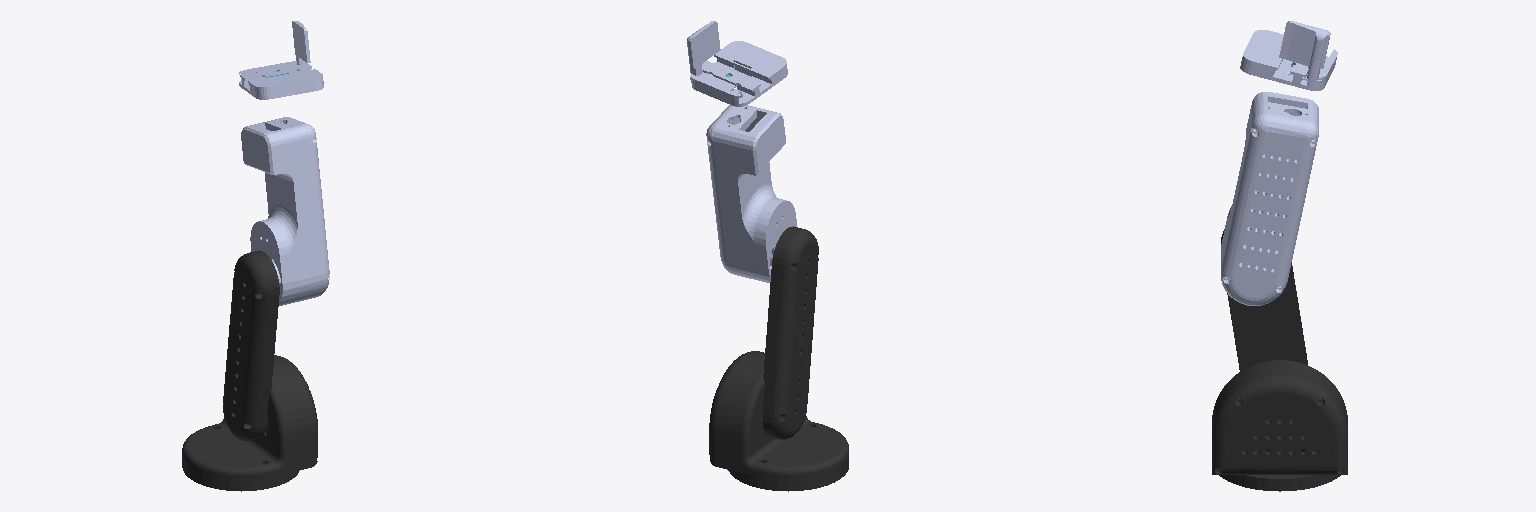
The robot description file, URDF, robot "Assembly.SLDASM":
<?xml version="1.0" encoding="utf-8"?>
<!-- This URDF was automatically created by SolidWorks to URDF Exporter! Originally created by Stephen Brawner (brawner@gmail.com) 
     Commit Version: 1.6.0-4-g7f85cfe  Build Version: 1.6.7995.38578
     For more information, please see http://wiki.ros.org/sw_urdf_exporter -->
<robot
  name="Assembly.SLDASM">
  <link
    name="base_link">
    <inertial>
      <origin
        xyz="0.607745951604421 0.85062096668515 1.30738944715506"
        rpy="0 0 0" />
      <mass
        value="0.251730876882344" />
      <inertia
        ixx="0.000372520564389881"
        ixy="-7.54584473646597E-05"
        ixz="-7.08997297031381E-07"
        iyy="0.000370141779081207"
        iyz="-1.29601796792354E-06"
        izz="0.000322827099049175" />
    </inertial>
    <visual>
      <origin
        xyz="0 0 0"
        rpy="0 0 0" />
      <geometry>
        <mesh
          filename="package://Assembly.SLDASM/meshes/base_link.STL" />
      </geometry>
      <material
        name="">
        <color
          rgba="0.250980392156863 0.250980392156863 0.250980392156863 1" />
      </material>
    </visual>
    <collision>
      <origin
        xyz="0 0 0"
        rpy="0 0 0" />
      <geometry>
        <mesh
          filename="package://Assembly.SLDASM/meshes/base_link.STL" />
      </geometry>
    </collision>
  </link>
  <link
    name="link1">
    <inertial>
      <origin
        xyz="-0.0649999773309407 -0.00990534170404467 -1.40136939608126E-07"
        rpy="0 0 0" />
      <mass
        value="0.128248499161461" />
      <inertia
        ixx="3.13660272017611E-05"
        ixy="-1.60750369333264E-11"
        ixz="3.62040686694242E-11"
        iyy="0.000332683526672571"
        iyz="2.30963009826588E-10"
        izz="0.00031026567260883" />
    </inertial>
    <visual>
      <origin
        xyz="0 0 0"
        rpy="0 0 0" />
      <geometry>
        <mesh
          filename="package://Assembly.SLDASM/meshes/link1.STL" />
      </geometry>
      <material
        name="">
        <color
          rgba="0.250980392156863 0.250980392156863 0.250980392156863 1" />
      </material>
    </visual>
    <collision>
      <origin
        xyz="0 0 0"
        rpy="0 0 0" />
      <geometry>
        <mesh
          filename="package://Assembly.SLDASM/meshes/link1.STL" />
      </geometry>
    </collision>
  </link>
  <joint
    name="joint1"
    type="continuous">
    <origin
      xyz="0.5858 -1.3071 0.86842"
      rpy="0 1.4263 1.5708" />
    <parent
      link="base_link" />
    <child
      link="link1" />
    <axis
      xyz="0 1 0" />
  </joint>
  <link
    name="link2">
    <inertial>
      <origin
        xyz="0.0273712938846296 -1.2826417259193E-05 -0.0546040513755284"
        rpy="0 0 0" />
      <mass
        value="0.175727921697482" />
      <inertia
        ixx="0.000423270295329232"
        ixy="-7.76365049035033E-08"
        ixz="-7.39253375607846E-08"
        iyy="0.000423842130806631"
        iyz="2.09944897994301E-07"
        izz="9.05331817948336E-05" />
    </inertial>
    <visual>
      <origin
        xyz="0 0 0"
        rpy="0 0 0" />
      <geometry>
        <mesh
          filename="package://Assembly.SLDASM/meshes/link2.STL" />
      </geometry>
      <material
        name="">
        <color
          rgba="0.792156862745098 0.819607843137255 0.933333333333333 1" />
      </material>
    </visual>
    <collision>
      <origin
        xyz="0 0 0"
        rpy="0 0 0" />
      <geometry>
        <mesh
          filename="package://Assembly.SLDASM/meshes/link2.STL" />
      </geometry>
    </collision>
  </link>
  <joint
    name="joint2"
    type="continuous">
    <origin
      xyz="-0.13 -0.023015 0"
      rpy="-1.9063 0 -1.5708" />
    <parent
      link="link1" />
    <child
      link="link2" />
    <axis
      xyz="1 0 0" />
  </joint>
  <link
    name="Wrist">
    <inertial>
      <origin
        xyz="-0.0410017157436405 -0.172991468354347 0.000961347210384877"
        rpy="0 0 0" />
      <mass
        value="0.0332525424349021" />
      <inertia
        ixx="1.08426026097616E-05"
        ixy="-5.82580124824093E-07"
        ixz="1.83029027989319E-07"
        iyy="1.78906507804546E-05"
        iyz="6.2291988943171E-07"
        izz="1.04314297639149E-05" />
    </inertial>
    <visual>
      <origin
        xyz="0 0 0"
        rpy="0 0 0" />
      <geometry>
        <mesh
          filename="package://Assembly.SLDASM/meshes/Wrist.STL" />
      </geometry>
      <material
        name="">
        <color
          rgba="0.792156862745098 0.819607843137255 0.933333333333333 1" />
      </material>
    </visual>
    <collision>
      <origin
        xyz="0 0 0"
        rpy="0 0 0" />
      <geometry>
        <mesh
          filename="package://Assembly.SLDASM/meshes/Wrist.STL" />
      </geometry>
    </collision>
  </link>
  <joint
    name="Joint3"
    type="continuous">
    <origin
      xyz="-0.0083232 0 0"
      rpy="1.5708 0 -2.9394" />
    <parent
      link="link2" />
    <child
      link="Wrist" />
    <axis
      xyz="0.97964 0 0.20078" />
  </joint>
  <link
    name="Empty_Link">
    <inertial>
      <origin
        xyz="0.00743945086297271 0.00953042264264181 -0.169309034936546"
        rpy="0 0 0" />
      <mass
        value="0.000803561462334875" />
      <inertia
        ixx="1.63361485850582E-08"
        ixy="2.50994585421896E-15"
        ixz="1.13675316359615E-17"
        iyy="1.63361470767245E-08"
        iyz="-2.77208680477044E-18"
        izz="3.04980207163165E-08" />
    </inertial>
    <visual>
      <origin
        xyz="0 0 0"
        rpy="0 0 0" />
      <geometry>
        <mesh
          filename="package://Assembly.SLDASM/meshes/Empty_Link.STL" />
      </geometry>
      <material
        name="">
        <color
          rgba="0.215686274509804 0.811764705882353 0.823529411764706 1" />
      </material>
    </visual>
    <collision>
      <origin
        xyz="0 0 0"
        rpy="0 0 0" />
      <geometry>
        <mesh
          filename="package://Assembly.SLDASM/meshes/Empty_Link.STL" />
      </geometry>
    </collision>
  </link>
  <joint
    name="End_Effector"
    type="continuous">
    <origin
      xyz="-0.026579 0 -0.0054472"
      rpy="1.5708 1.5193 3.1416" />
    <parent
      link="Wrist" />
    <child
      link="Empty_Link" />
    <axis
      xyz="0.25091 0.96801 0" />
  </joint>
</robot>

--- What the picture shows (computed from the rendered views, not written in the file) ---
The picture shows the robot from 3 angles, left to right: view 1: azimuth 30°, elevation 25°; view 2: azimuth 150°, elevation 25°; view 3: azimuth 270°, elevation 25°; orthographic projection.
Robot: Assembly.SLDASM — 5 links, 4 joints (4 continuous); root link base_link; default pose: all joints at 0.
Links seen in each view (by area): view 1: link2, base_link, link1, Wrist; view 2: link2, base_link, link1, Wrist; view 3: base_link, link2, Wrist, link1.
Link boxes in pixels (x1,y1,x2,y2): link2: (241, 117, 329, 305); base_link: (182, 355, 317, 491); link1: (223, 250, 279, 440); Wrist: (239, 21, 323, 99); link2: (706, 105, 796, 282); base_link: (709, 351, 848, 491); link1: (762, 226, 818, 439); Wrist: (687, 21, 787, 106); base_link: (1212, 360, 1347, 491); link2: (1221, 92, 1318, 305); Wrist: (1240, 21, 1337, 90); link1: (1221, 229, 1307, 371).
Size in the robot's own frame: 0.1273 by 0.1 by 0.389 metres.
Meshes: 5 distinct files referenced, 5 mesh visuals loaded (5 binary STL).
